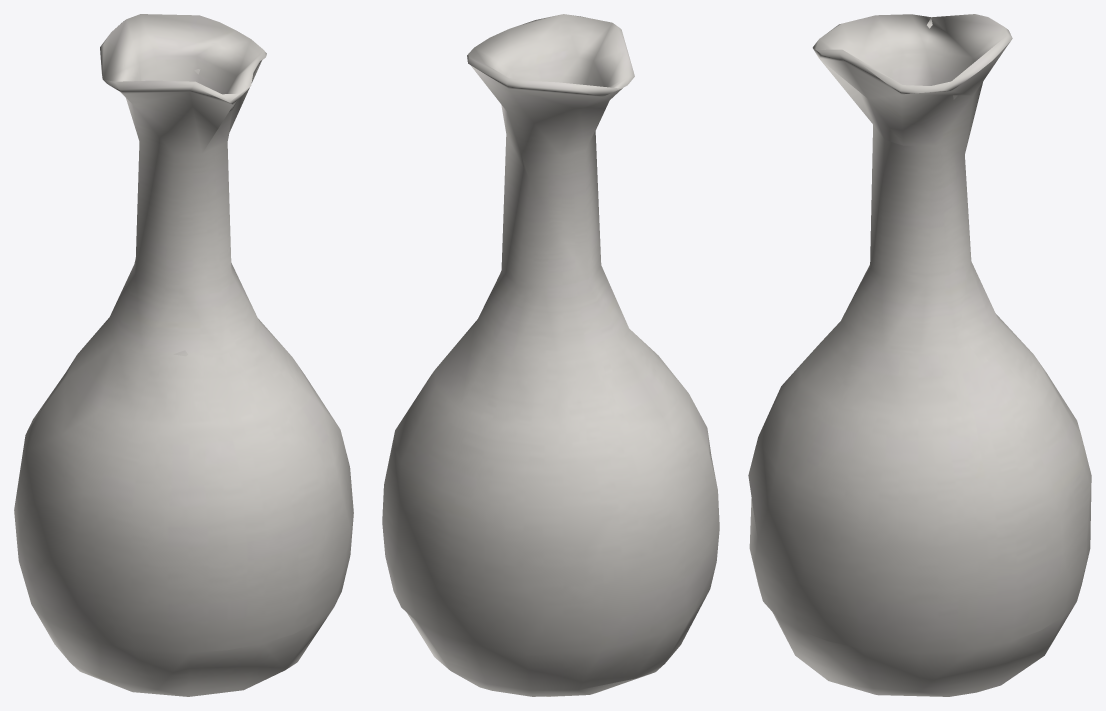
3 views of the same model, side by side, from view 1: azimuth 30°, elevation 25°; view 2: azimuth 150°, elevation 25°; view 3: azimuth 270°, elevation 25° (orthographic).
Parts seen in each view (by area): view 1: ceramic_vase_01; view 2: ceramic_vase_01; view 3: ceramic_vase_01.
Part boxes in pixels (bbox=[...]): ceramic_vase_01: bbox=[14, 14, 353, 696]; ceramic_vase_01: bbox=[382, 14, 719, 696]; ceramic_vase_01: bbox=[748, 14, 1091, 696].
Size of the model in its own units: 0.2022 by 0.3998 by 0.2015.
Materials: 1 (1 with a texture image).
